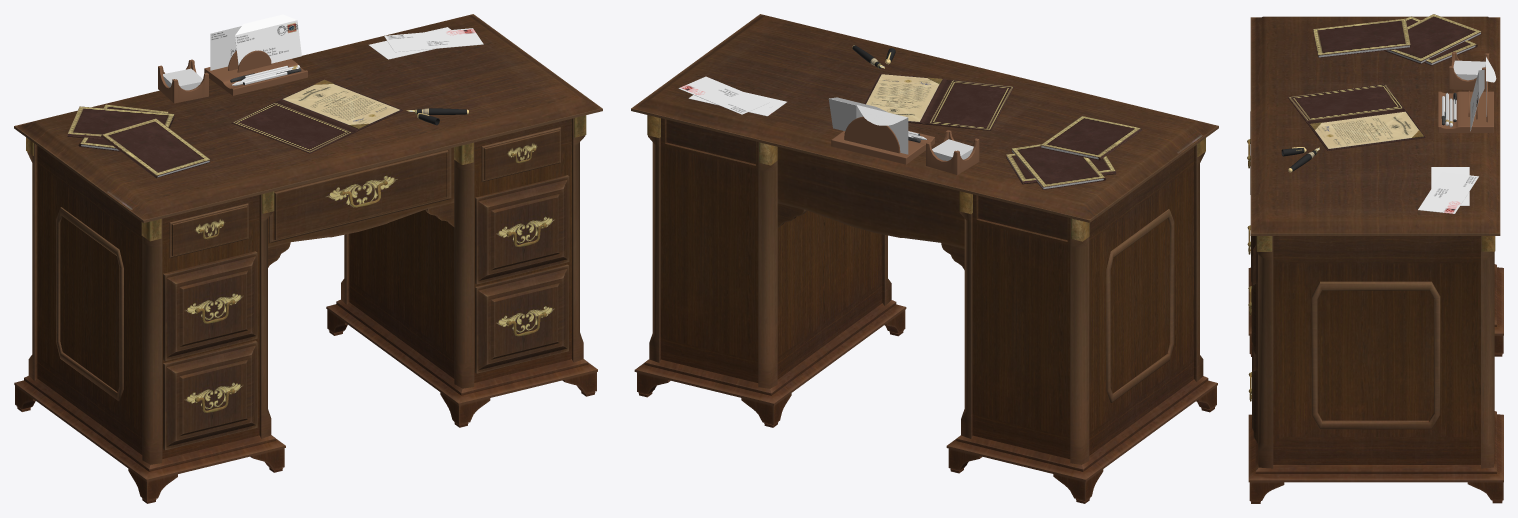
File: desk.fbx
The picture shows the model from 3 angles, left to right: view 1: azimuth 30°, elevation 25°; view 2: azimuth 150°, elevation 25°; view 3: azimuth 270°, elevation 25°; orthographic projection. The views are drawn at different scales.
Visible parts, largest first — view 1: desk22:Box002, desk22:Cylinder001, Env_Announcement.002, Cube.208, Env_Announcement.006, Cube.222, Env_Announcement; view 2: desk22:Box002, desk22:Cylinder001, Cube.208, Env_Announcement.006, Cube.222, Env_Announcement, Env_Announcement.002; view 3: desk22:Box002, desk22:Cylinder001, Cube.208, Env_Announcement.006, Cube.222, Env_Announcement.001, Env_Announcement.002.
Boxes of the visible parts, <box> form: desk22:Box002: <box>14,14,602,503</box>; desk22:Cylinder001: <box>67,79,468,178</box>; Env_Announcement.002: <box>235,14,301,65</box>; Cube.208: <box>204,50,307,95</box>; Env_Announcement.006: <box>384,28,483,52</box>; Cube.222: <box>158,59,208,103</box>; Env_Announcement: <box>210,26,241,70</box>; desk22:Box002: <box>631,14,1218,503</box>; desk22:Cylinder001: <box>852,45,1142,189</box>; Cube.208: <box>831,116,934,164</box>; Env_Announcement.006: <box>678,76,769,114</box>; Cube.222: <box>926,130,979,174</box>; Env_Announcement: <box>856,105,908,154</box>; Env_Announcement.002: <box>828,97,887,131</box>; desk22:Box002: <box>1247,16,1503,503</box>; desk22:Cylinder001: <box>1281,14,1481,172</box>; Cube.208: <box>1438,81,1493,132</box>; Env_Announcement.006: <box>1418,172,1478,213</box>; Cube.222: <box>1449,52,1489,90</box>; Env_Announcement.001: <box>1431,167,1469,205</box>; Env_Announcement.002: <box>1470,69,1484,131</box>.
Size of the model in its own units: 221 by 155 by 111.
12 materials, 3 textured.
